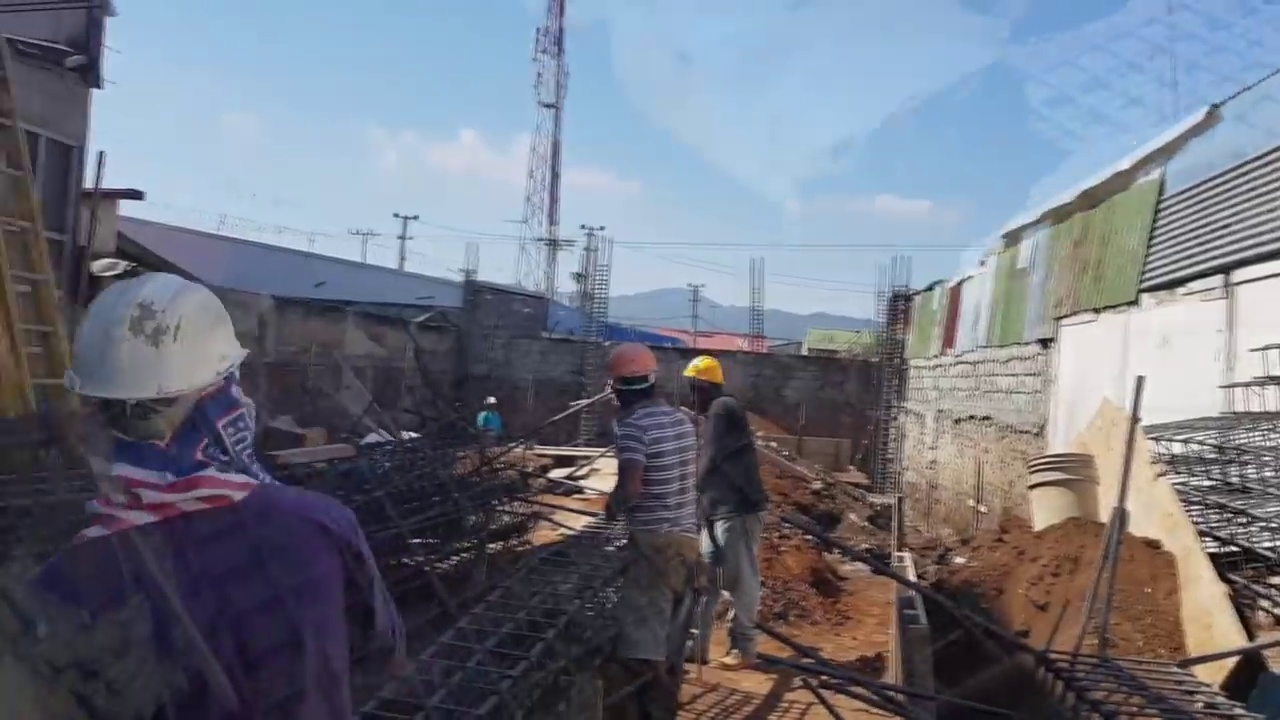helmet: (48, 273, 248, 399), (605, 342, 662, 390), (684, 358, 727, 386), (484, 396, 498, 405)
helmet-on: (51, 263, 264, 519), (605, 342, 661, 411), (687, 359, 727, 404), (484, 396, 498, 412)
person: (24, 264, 406, 714), (595, 340, 697, 712), (684, 359, 762, 655), (476, 396, 501, 438)
